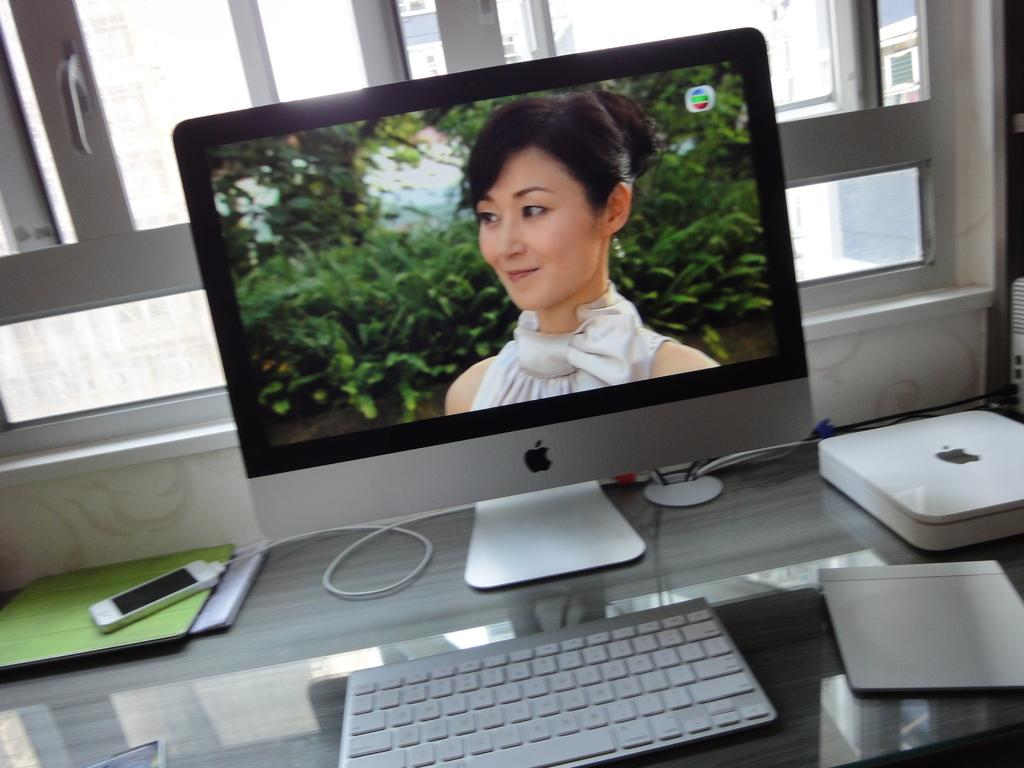Computer-keyboard: (340, 598, 777, 767)
Computer-monitor: (157, 20, 854, 591)
